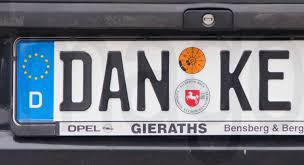A: (98, 46, 132, 116)
D: (58, 47, 95, 115)
E: (253, 46, 293, 113)
K: (216, 49, 256, 115)
N: (132, 49, 172, 113)
